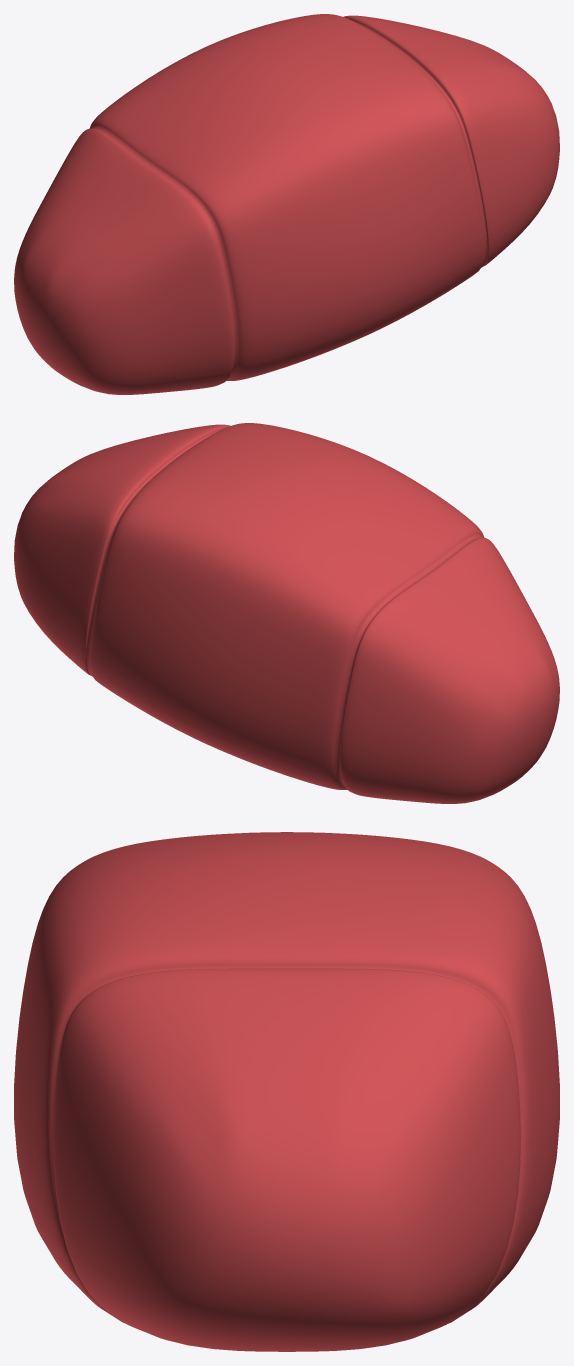
The picture shows the model from 3 angles, top to bottom: view 1: azimuth 30°, elevation 25°; view 2: azimuth 150°, elevation 25°; view 3: azimuth 270°, elevation 25°; orthographic projection. The views are drawn at different scales.
Visible parts, largest first — view 1: 球体.007; view 2: 球体.007; view 3: 球体.007.
Part boxes in pixels (x1,y1,x2,y2): 球体.007: [14, 14, 559, 394]; 球体.007: [14, 423, 559, 803]; 球体.007: [14, 832, 559, 1351].
Bounding box in the file's own units: 48.18 × 24.53 × 26.46.
